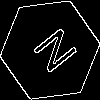N: (25, 25, 79, 82)
